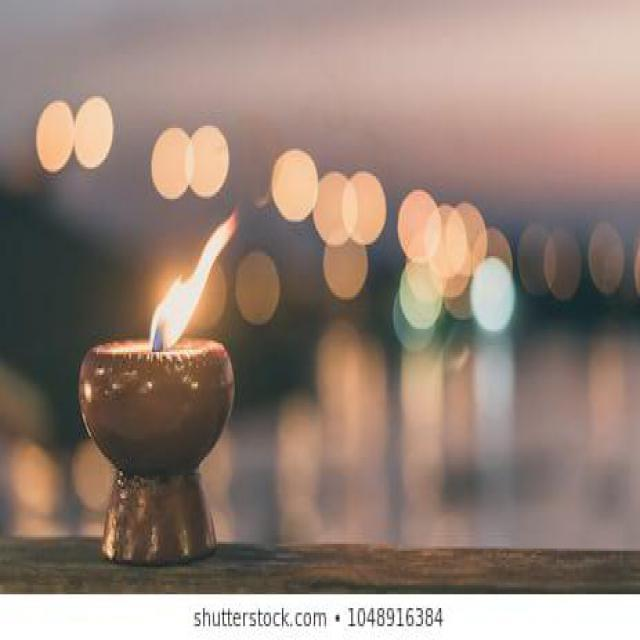Fire: (149, 212, 238, 354)
